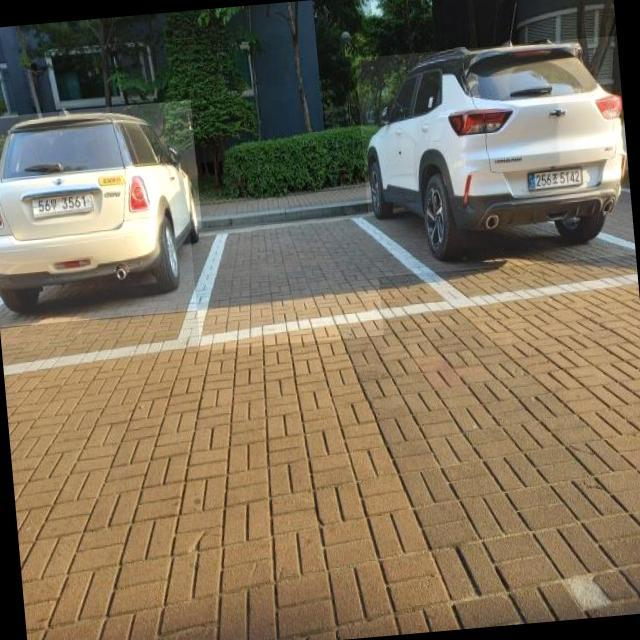empty: (190, 213, 383, 351)
occupied: (354, 36, 636, 278), (0, 99, 209, 327)
